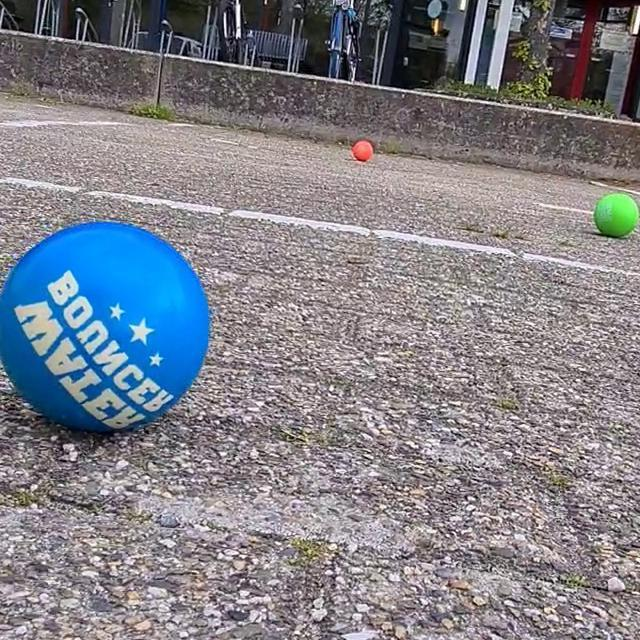ball: (593, 190, 640, 243), (352, 135, 373, 163)
